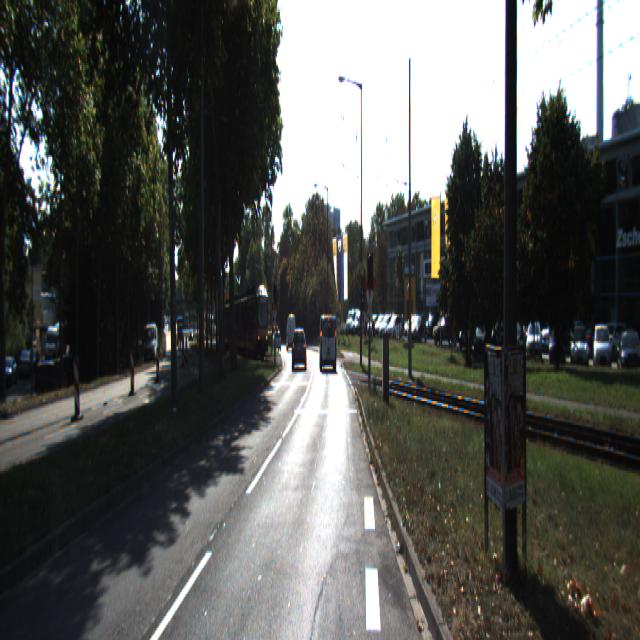Car: (228, 287, 270, 355), (320, 313, 336, 375), (291, 328, 307, 372)
